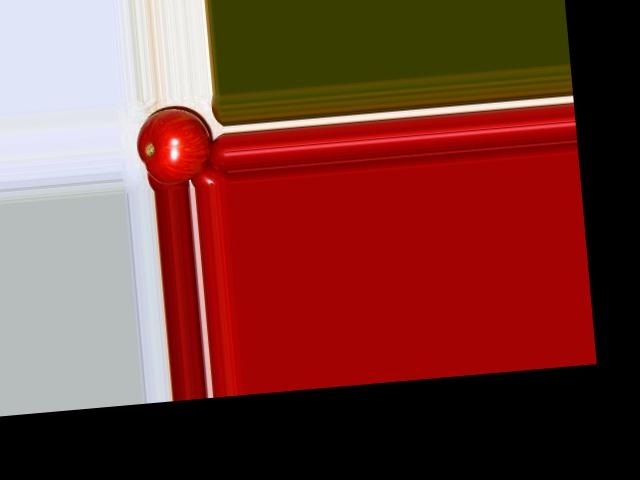tomato: (133, 105, 215, 187)
